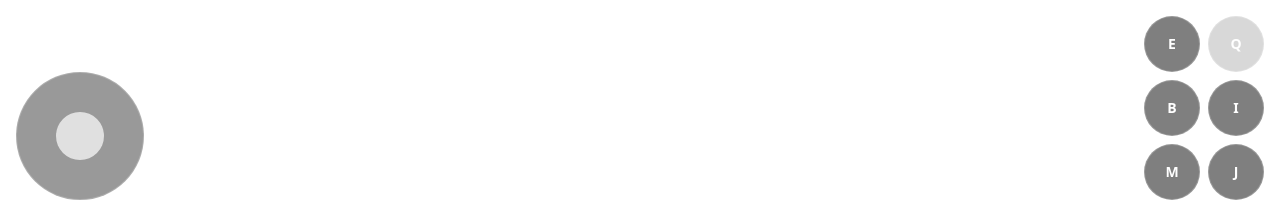
Test: TouchControls › should disable the place button until build mode is on
Expected: the button named "Place" is disabled, [1208, 16, 1264, 72]
Press the mouse on the button named "Build mode" at (1172, 108), box [1144, 80, 1200, 136]
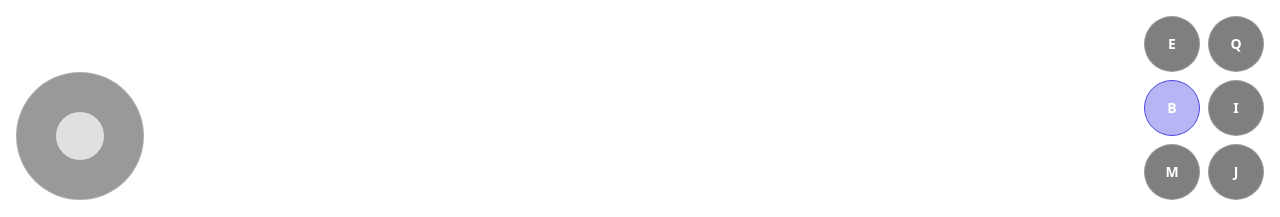
Now the button named "Place" is enabled, box [1208, 16, 1264, 72]
